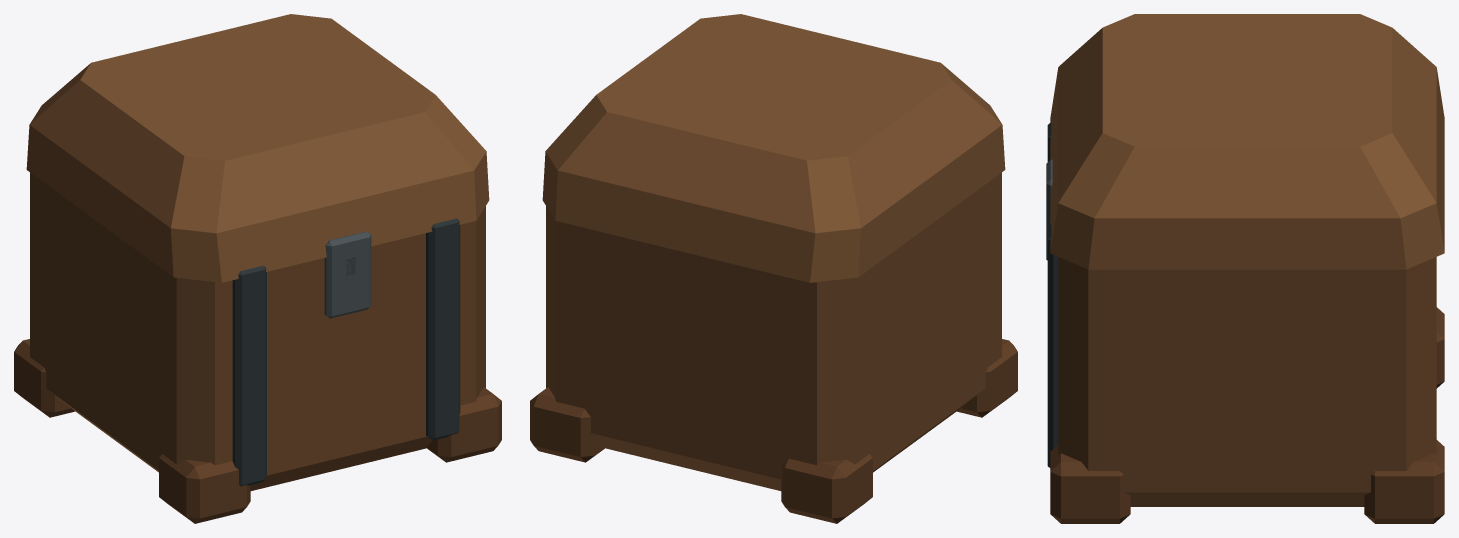
File: storage_crate.glb
3 views of the same model, side by side, from view 1: azimuth 30°, elevation 25°; view 2: azimuth 150°, elevation 25°; view 3: azimuth 270°, elevation 25° (orthographic). The views are drawn at different scales.
Parts seen in each view (by area): view 1: storage_crate; view 2: storage_crate; view 3: storage_crate.
Boxes of the visible parts, x1,y1,x2,y2 form: storage_crate: (14,14,501,523); storage_crate: (530,14,1017,523); storage_crate: (1046,14,1444,523).
Size of the model in its own units: 0.98 by 1 by 0.99.
